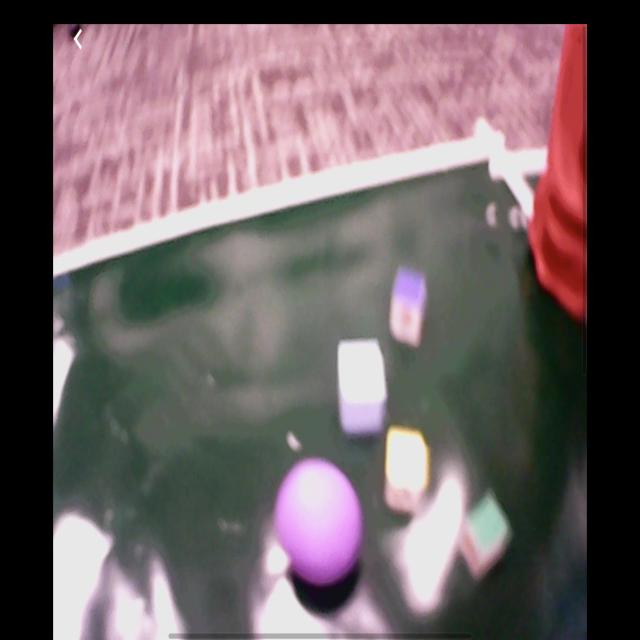ball: (273, 460, 365, 584)
